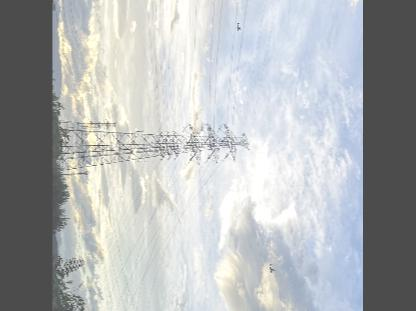Tornado: (268, 262, 276, 272), (236, 22, 242, 30)
